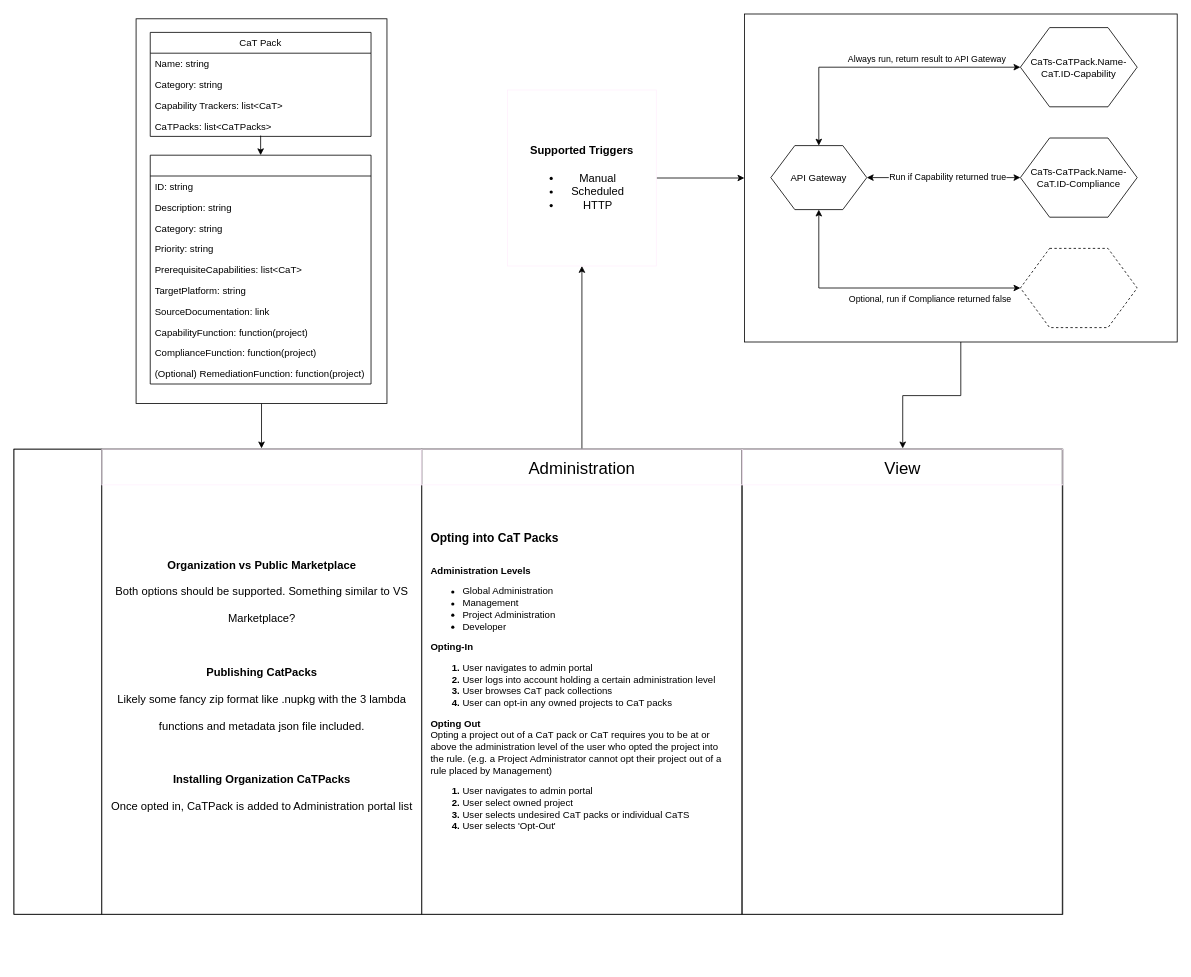
Some shapes in this 1191 by 977 pixel diagram are drawn without their labels. Each missing label, with the box of its shape:
Capability Tracker (CaT): (149, 154, 371, 384)
CaTS Portal: (13, 448, 102, 914)
CaTs-CaTPack.Name-CaT.ID-Remediation: (1020, 248, 1137, 328)
Follow SonarQube/Cloud's example for project layout and issue breakdown: (741, 448, 1062, 914)
Marketplace: (101, 448, 421, 485)
